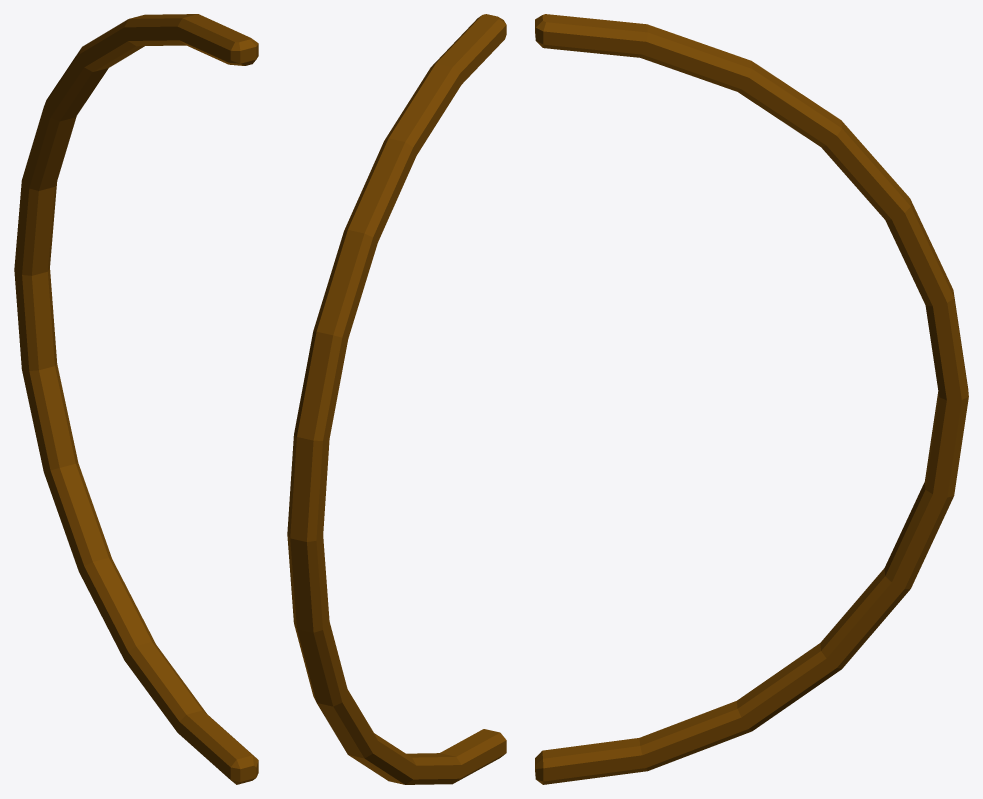
The model's file is original-2.obj.
The picture shows the model from 3 angles, left to right: view 1: azimuth 30°, elevation 25°; view 2: azimuth 150°, elevation 25°; view 3: azimuth 270°, elevation 25°; orthographic projection. The views are drawn at different scales.
Visible parts, largest first — view 1: instance_1/I0/ID7#ID7; view 2: instance_1/I0/ID7#ID7; view 3: instance_1/I0/ID7#ID7.
Boxes of the visible parts, x1,y1,x2,y2 form: instance_1/I0/ID7#ID7: (14, 14, 258, 784); instance_1/I0/ID7#ID7: (287, 14, 506, 784); instance_1/I0/ID7#ID7: (535, 14, 968, 784).
Size of the model in its own units: 0.0875 by 1.5 by 0.7708.
